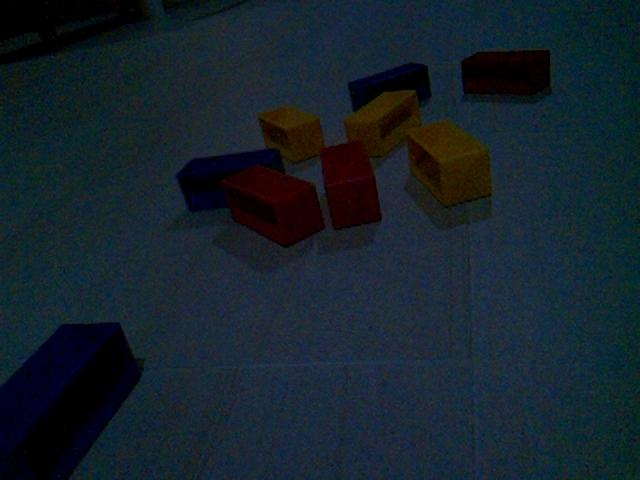blue: (1, 319, 145, 479), (175, 146, 285, 214), (347, 60, 434, 113)
red: (221, 162, 326, 248), (319, 139, 383, 231), (460, 47, 554, 98)
yellow: (405, 118, 494, 208), (344, 88, 422, 158), (257, 103, 327, 164)
